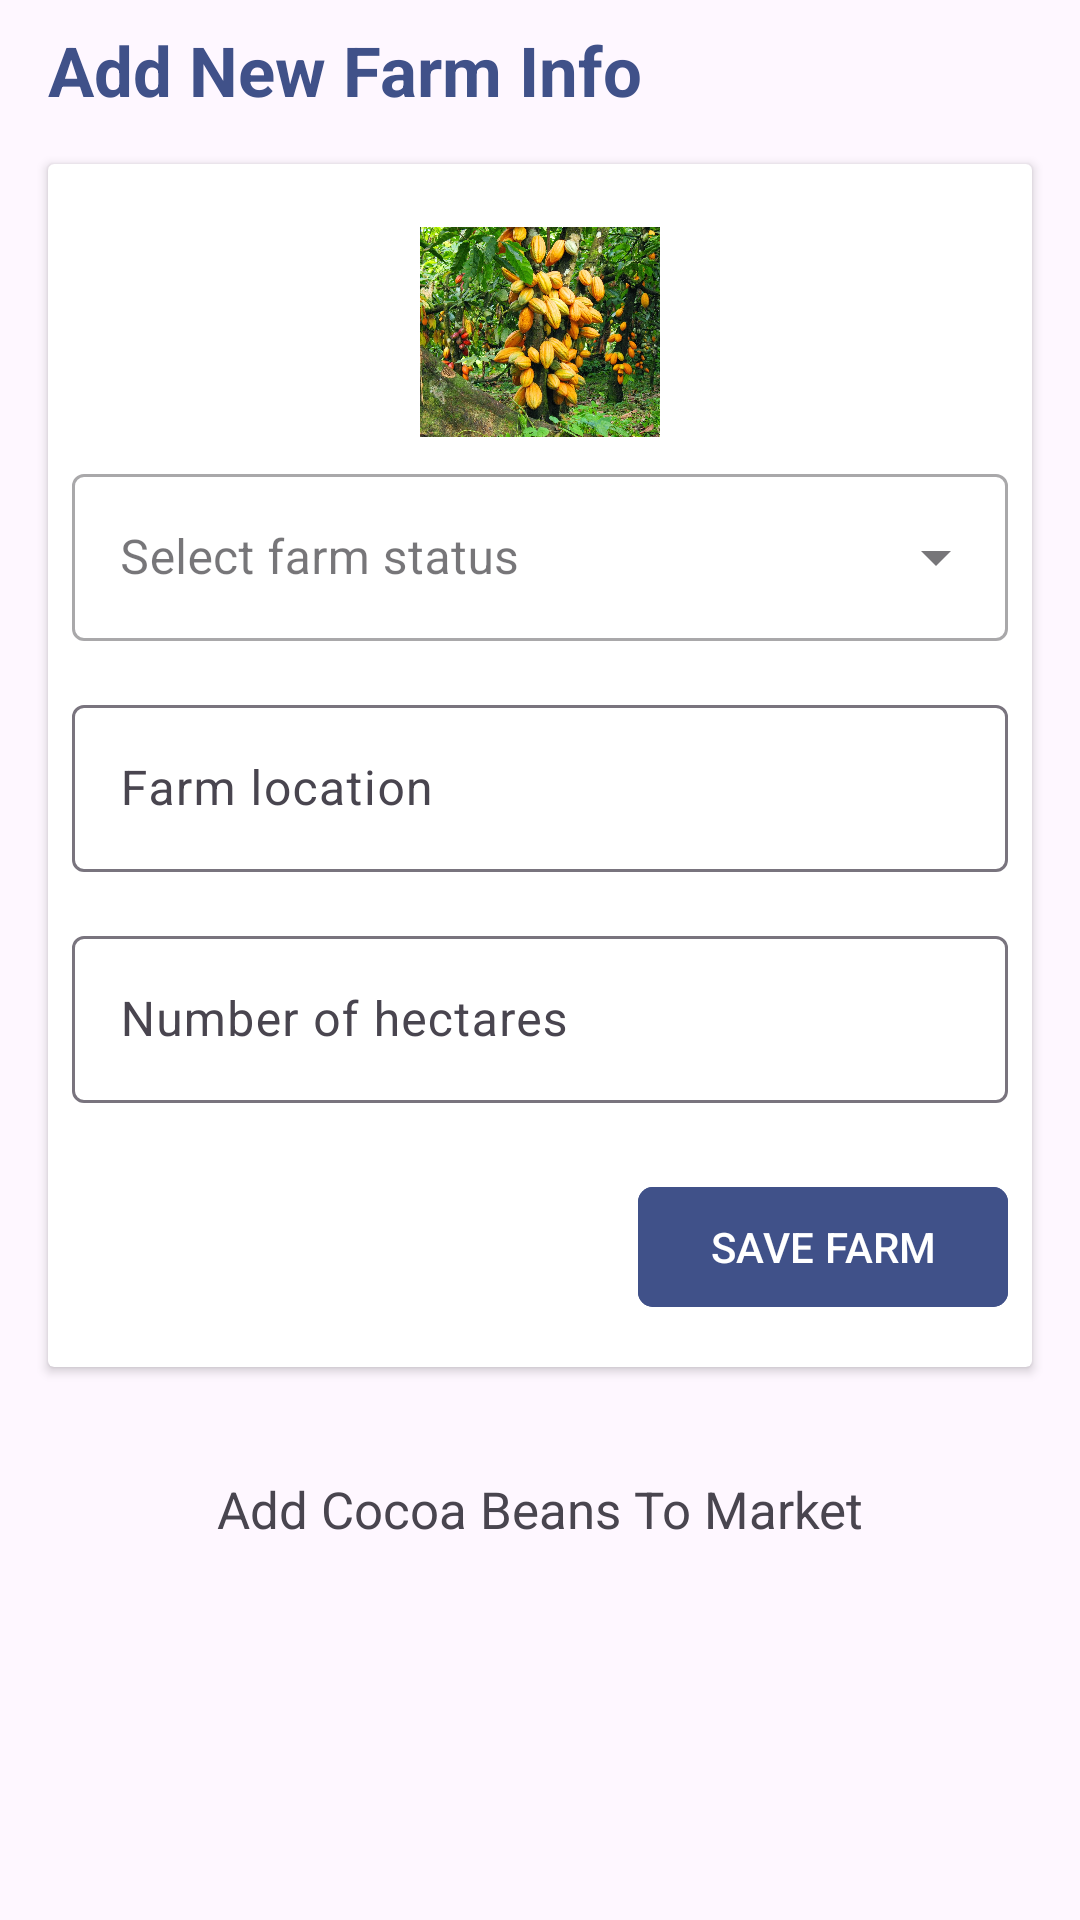

Icons on this 1080 × 1920 Android screen, each with the point to tap as [x,y]:
cocoa: [540,332]
